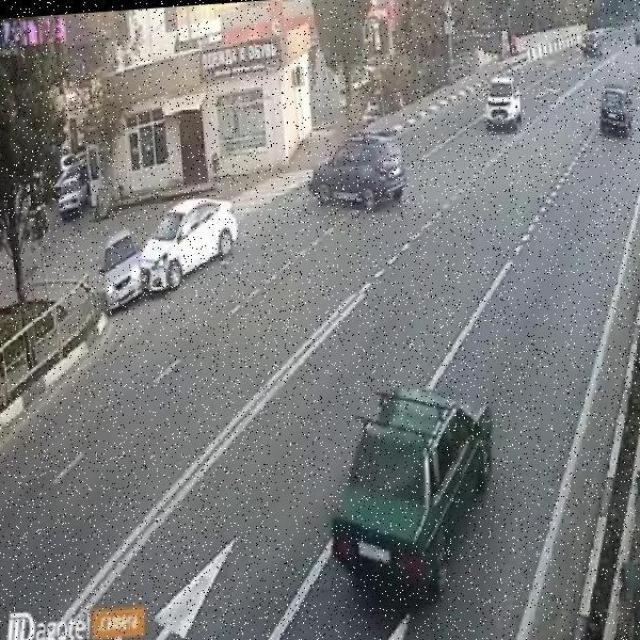accident: (96, 225, 198, 292)
